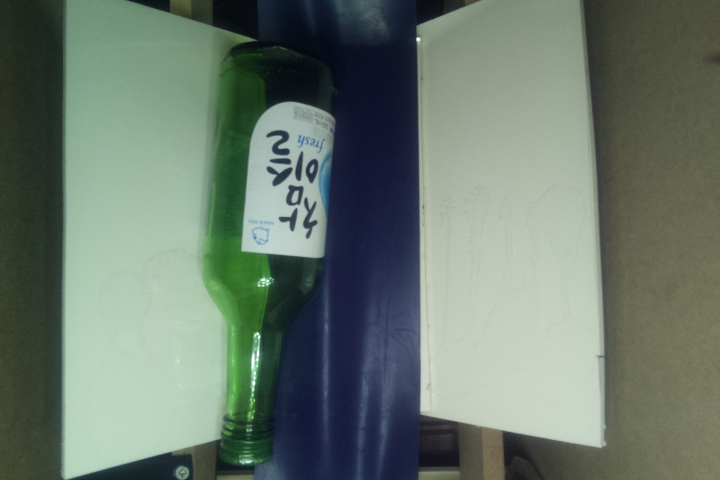soju: (199, 39, 339, 467)
